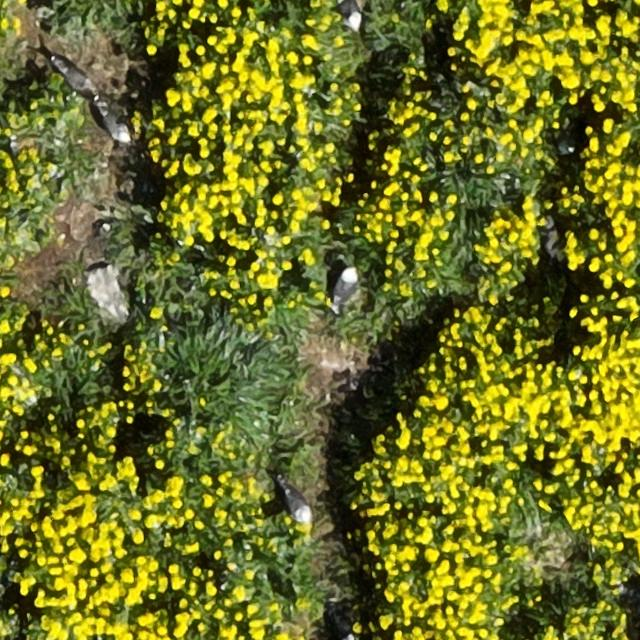umineko: (101, 107, 130, 143), (284, 486, 311, 522), (58, 62, 92, 88), (333, 267, 356, 303), (337, 2, 361, 30), (332, 610, 354, 638)
